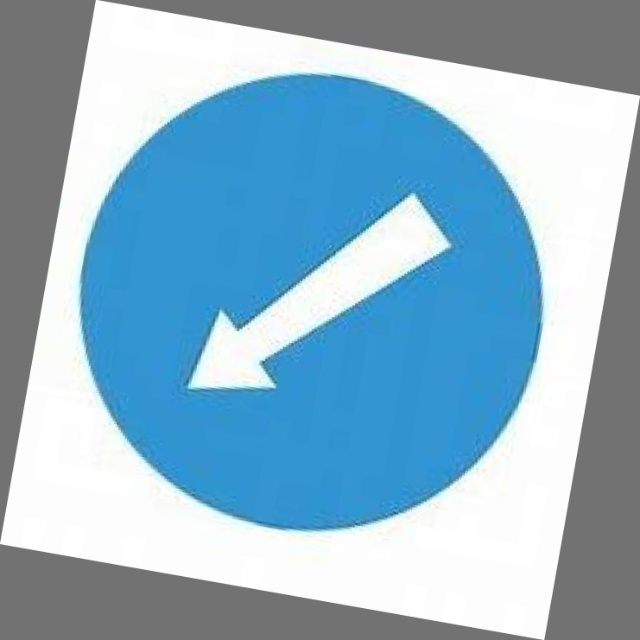R.301e: (33, 29, 601, 577)
